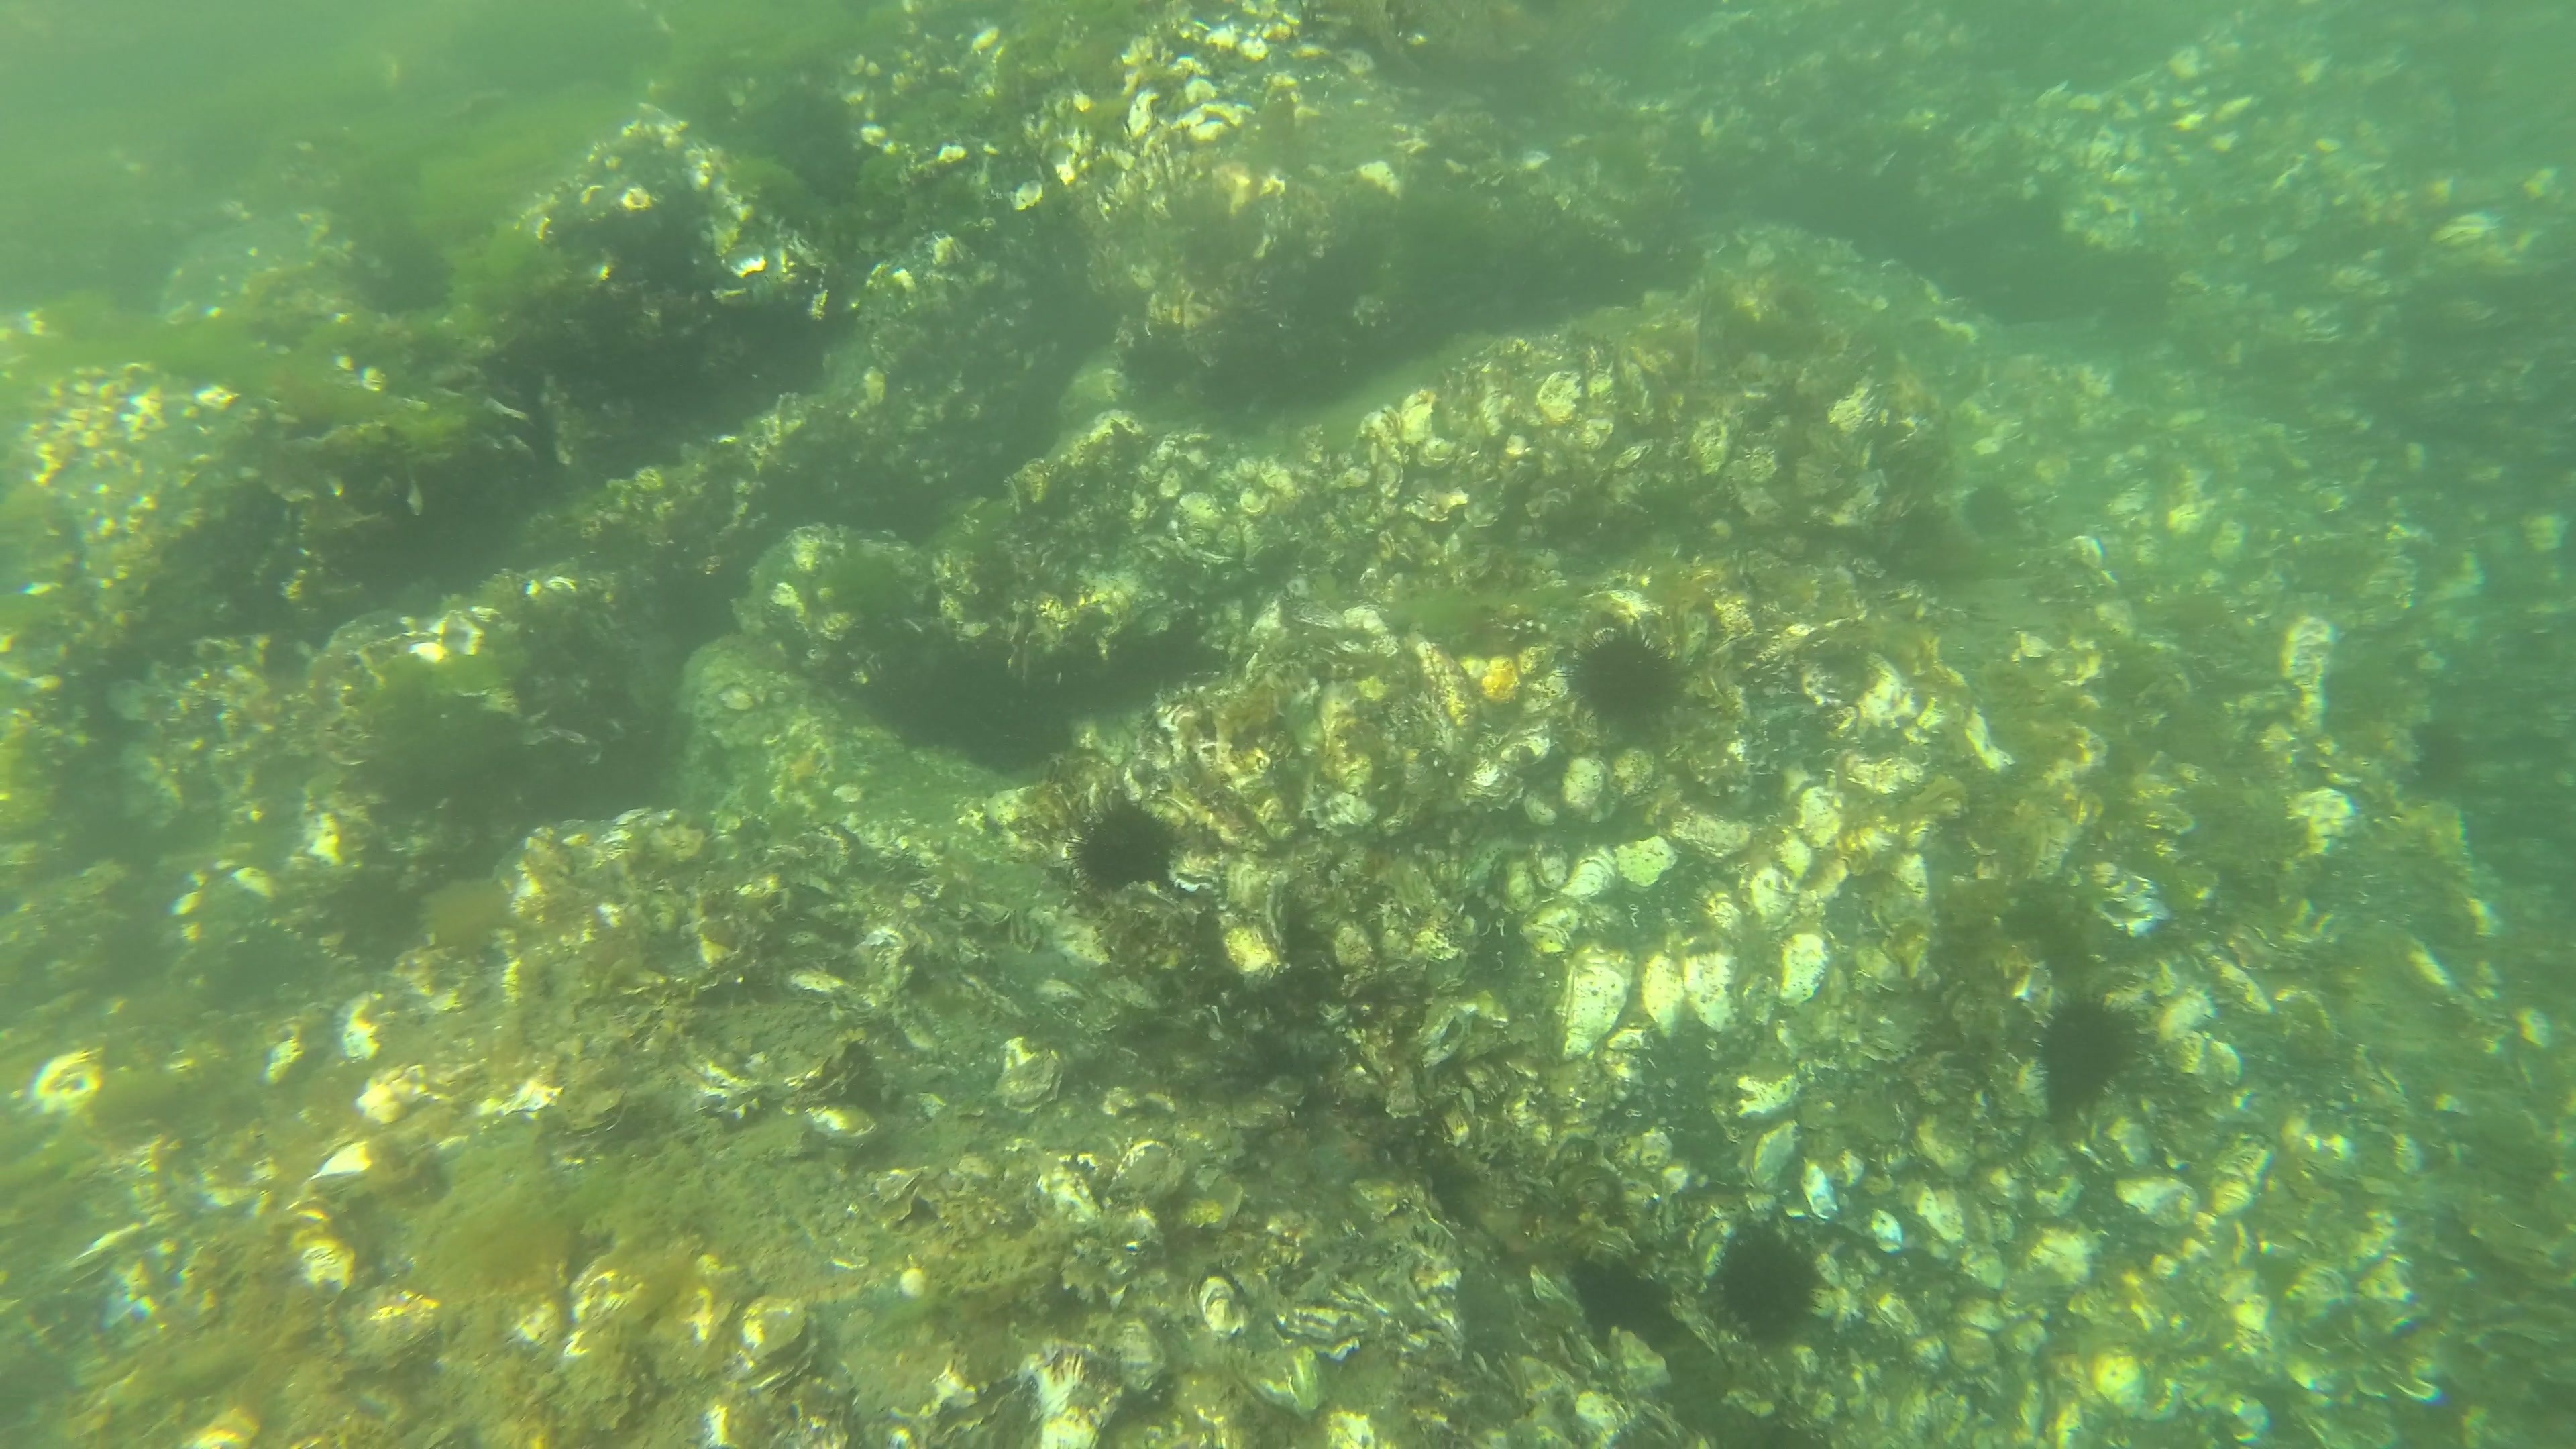echinus: (1718, 1217, 1829, 1348), (1562, 635, 1691, 734), (2036, 1000, 2141, 1118), (1109, 333, 1226, 419), (1065, 807, 1180, 893), (2396, 718, 2477, 800), (1943, 476, 2029, 547)
starfish: (1309, 1123, 1387, 1192)
